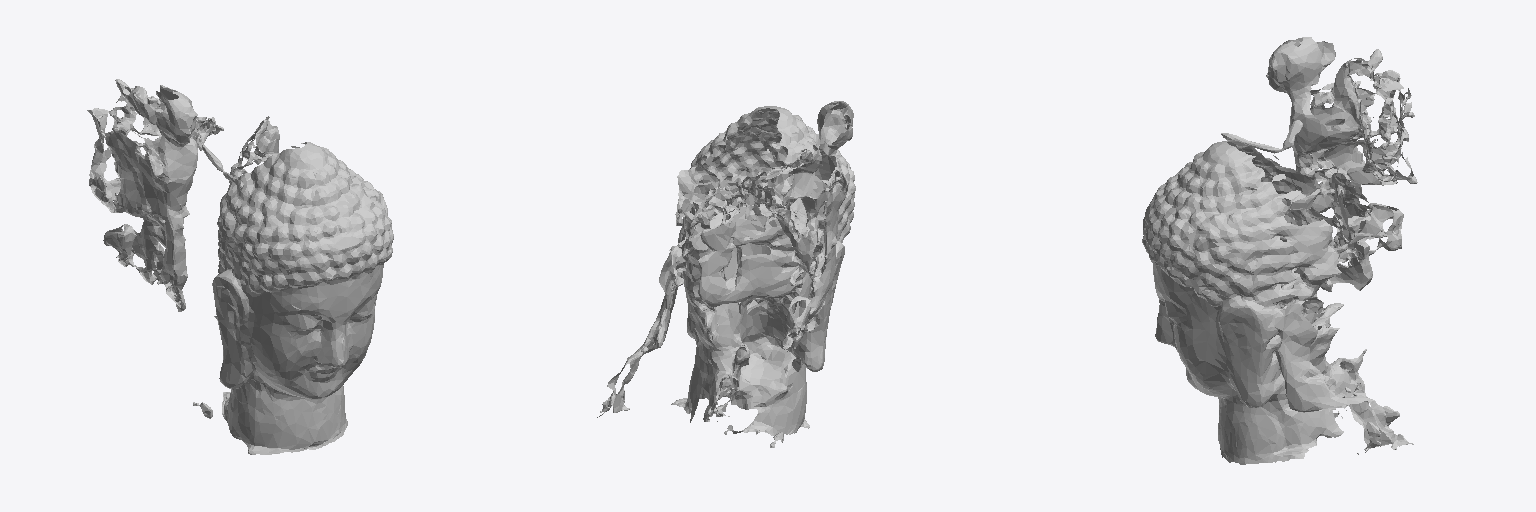
The model's file is whiteHead_lowpoly.obj.
3 views of the same model, side by side, from view 1: azimuth 30°, elevation 25°; view 2: azimuth 150°, elevation 25°; view 3: azimuth 270°, elevation 25° (orthographic).
Bounding box in the file's own units: 2.64 × 4.09 × 2.84.